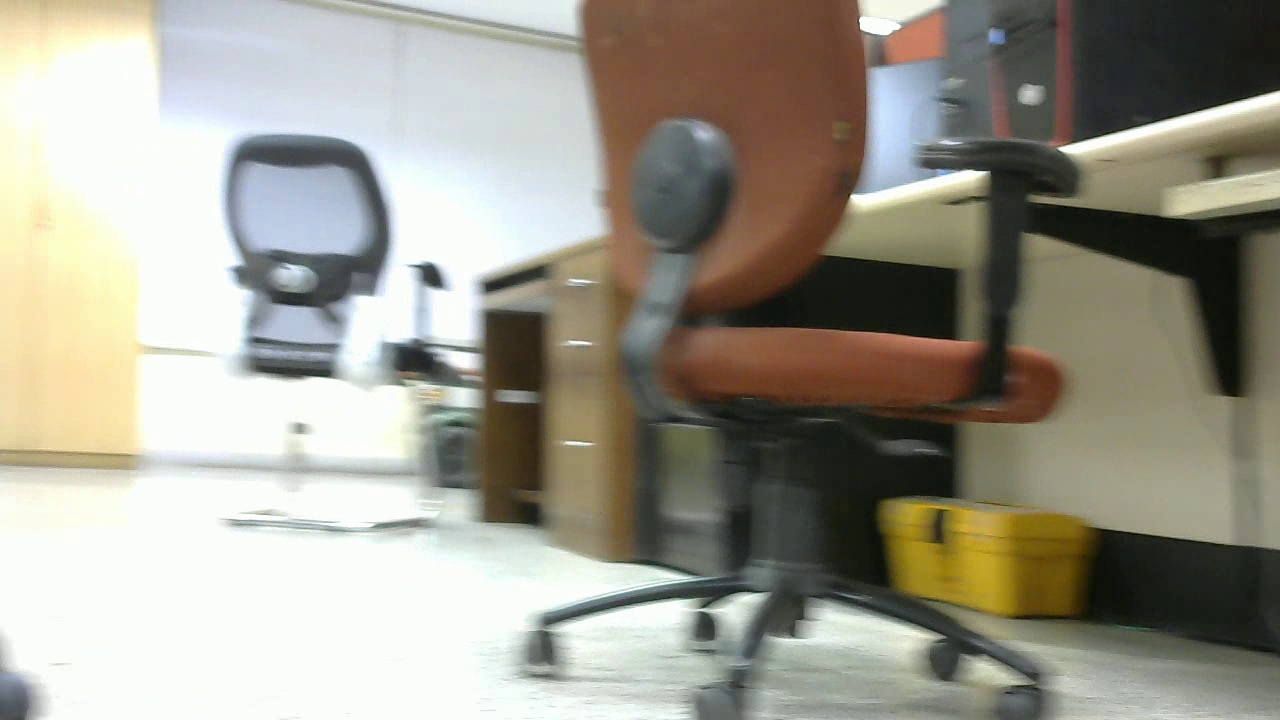chair: (493, 5, 1096, 720), (189, 119, 461, 539)
